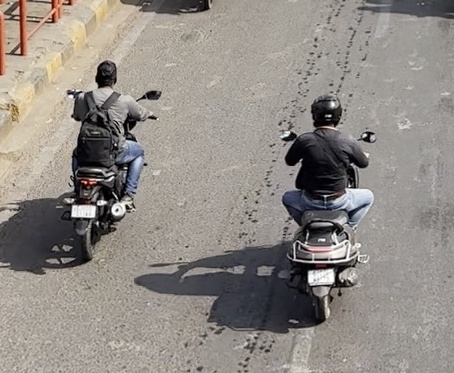BikeWithRider: (271, 88, 381, 328), (53, 57, 165, 266)
Helmet: (304, 88, 350, 131)
NoHelmet: (88, 58, 122, 93)
